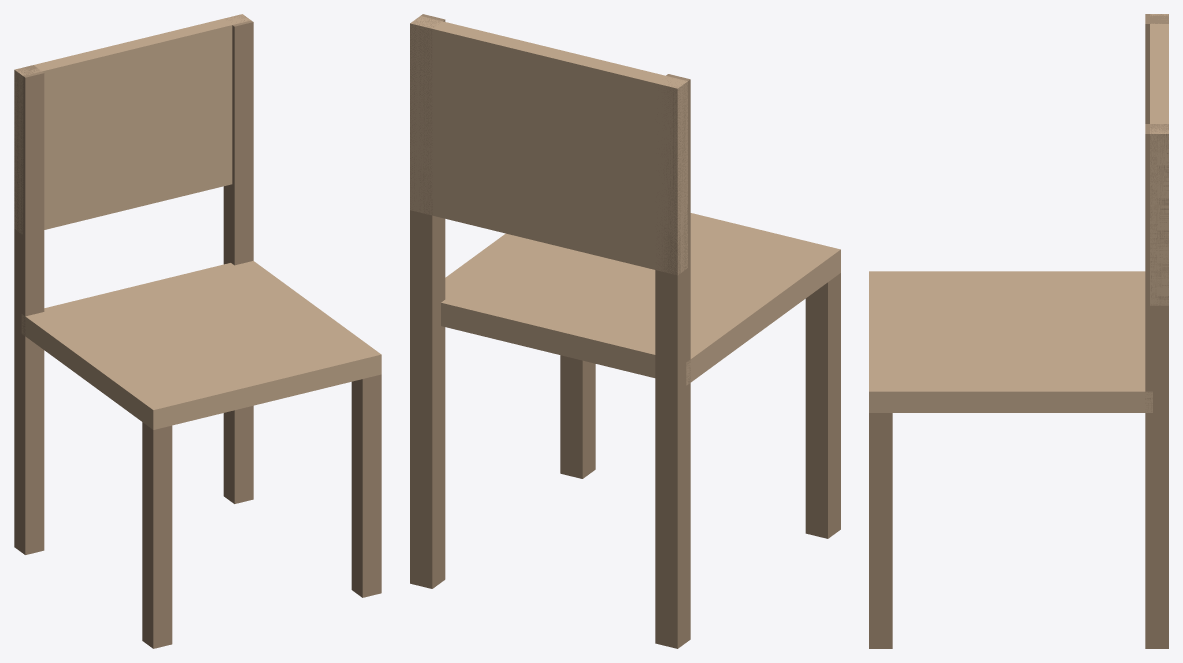
The model's file is dining_chair.glb.
3 renders of one model, left to right at view 1: azimuth 30°, elevation 25°; view 2: azimuth 150°, elevation 25°; view 3: azimuth 270°, elevation 25°, orthographic. The views are drawn at different scales.
Visible parts, largest first — view 1: seat, back_panel, post_l, post_r, leg_fl, leg_fr; view 2: back_panel, seat, post_l, post_r, leg_fl, leg_fr; view 3: seat, post_r, leg_fr, back_panel, post_l.
Part boxes in pixels (x1,y1,x2,y2): seat: [21, 261, 381, 429]; back_panel: [14, 14, 250, 234]; post_l: [14, 65, 44, 554]; post_r: [223, 14, 253, 503]; leg_fl: [142, 422, 172, 648]; leg_fr: [351, 374, 381, 597]; back_panel: [410, 16, 687, 275]; seat: [441, 213, 840, 385]; post_l: [655, 74, 690, 648]; post_r: [410, 14, 445, 588]; leg_fl: [805, 273, 840, 538]; leg_fr: [560, 355, 595, 478]; seat: [869, 271, 1152, 412]; post_r: [1145, 124, 1168, 648]; leg_fr: [869, 413, 892, 648]; back_panel: [1150, 14, 1168, 305]; post_l: [1145, 14, 1168, 123].
Bounding box in the file's own units: 0.4572 × 0.9144 × 0.4826.
